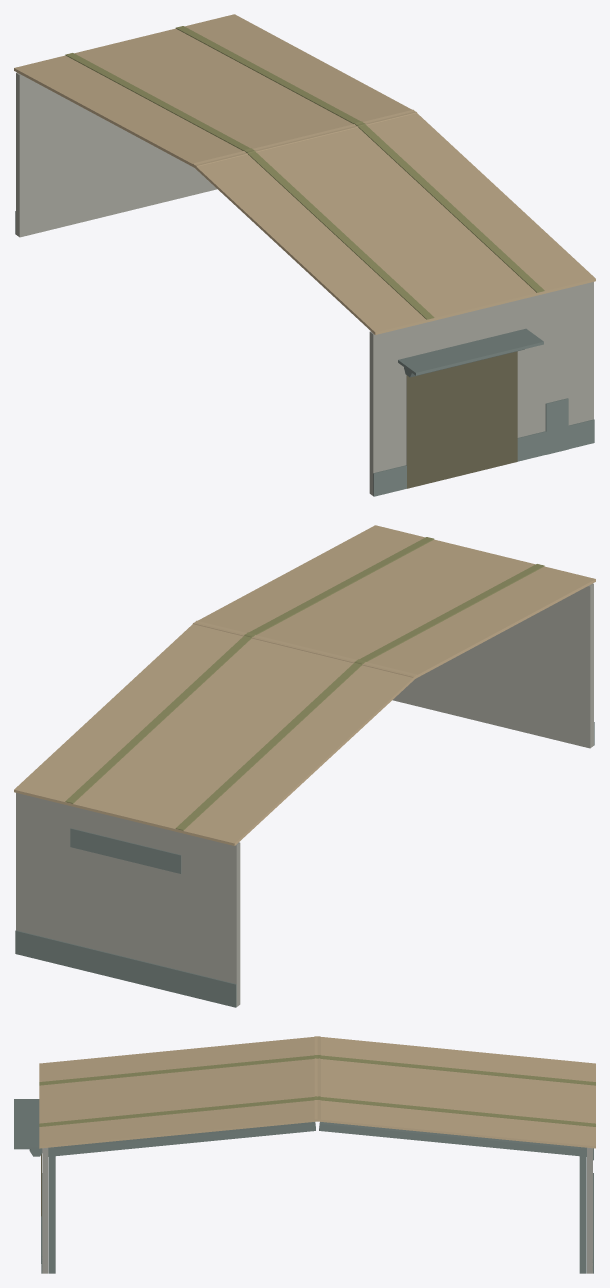
The model's file is SM_NavePoligono_Modulo_e1_PersianaAbierta_LOD1.fbx.
The picture shows the model from 3 angles, top to bottom: view 1: azimuth 30°, elevation 25°; view 2: azimuth 150°, elevation 25°; view 3: azimuth 270°, elevation 25°; orthographic projection. The views are drawn at different scales.
Visible parts, largest first — view 1: SM_nave_poligono_v1_LOD1; view 2: SM_nave_poligono_v1_LOD1; view 3: SM_nave_poligono_v1_LOD1.
Boxes of the visible parts, x1=… form: SM_nave_poligono_v1_LOD1: x1=14, y1=14, x2=595, y2=496; SM_nave_poligono_v1_LOD1: x1=14, y1=525, x2=595, y2=1007; SM_nave_poligono_v1_LOD1: x1=14, y1=1036, x2=595, y2=1273.
Bounding box in the file's own units: 9.98 × 8.72 × 29.6.
